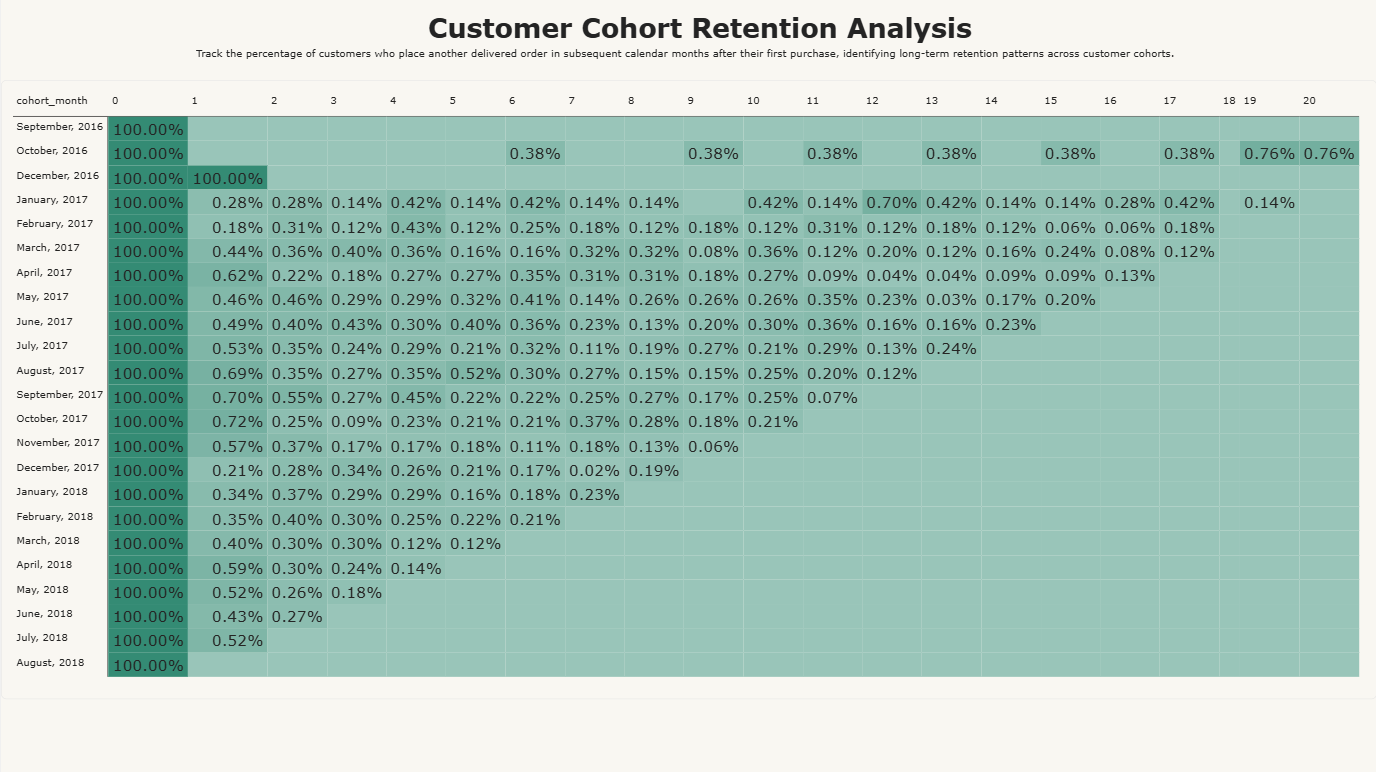

Layout of this report page (visuals, bound fields, positions):
{"tool":"powerbi","page":{"name":"Cohort Retention","canvas":[1920,1080],"ordinal":1},"visuals":[{"type":"pivotTable","fields":{"Values":["sql_cohort_retention.Retention %"],"Rows":["sql_cohort_retention.cohort_month"],"Columns":["Cohort Months.cohort_index"]},"box":[0,112,1920,864],"z":0},{"type":"textbox","box":[592,16,768,48],"z":1000},{"type":"textbox","box":[272,64,1376,32],"z":2000}]}

Visuals, with their boxes in screenshot pixels (x1, y1, x2, y2), scaled from the page's 1920x1080 canvas onto the 1376x772 screenshot:
pivotTable - sql_cohort_retention.Retention % x sql_cohort_retention.cohort_month: (x1=0, y1=80, x2=1375, y2=698)
textbox: (x1=424, y1=11, x2=975, y2=46)
textbox: (x1=195, y1=46, x2=1181, y2=69)
